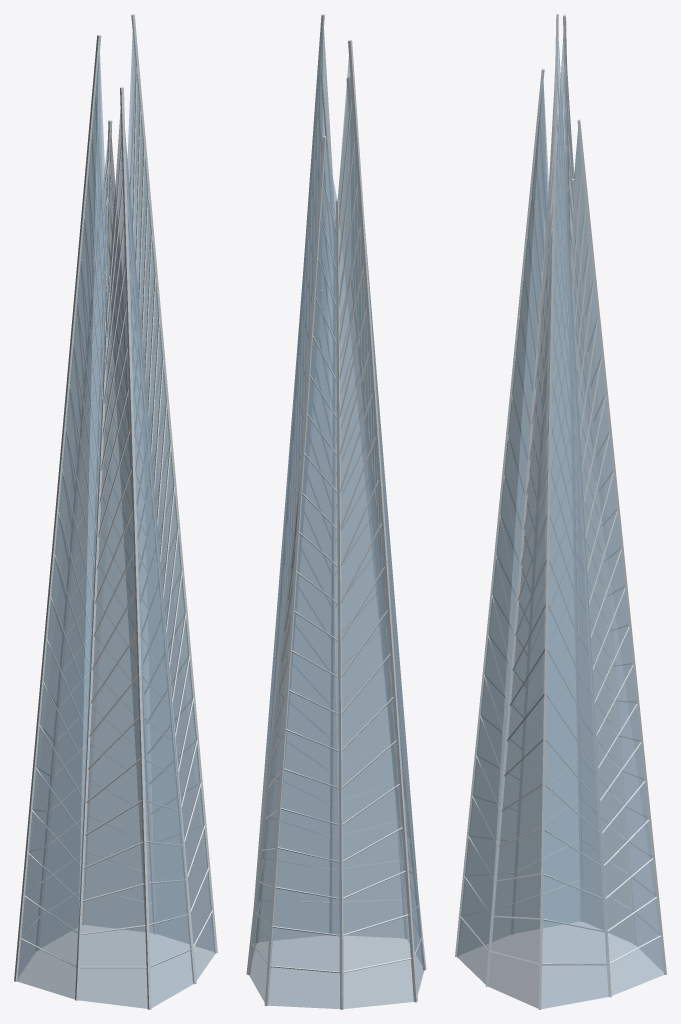
Rendered from shard.glb.
The picture shows the model from 3 angles, left to right: view 1: azimuth 30°, elevation 25°; view 2: azimuth 150°, elevation 25°; view 3: azimuth 270°, elevation 25°; orthographic projection.
Bounding box in the file's own units: 6 × 30.01 × 6.01.
